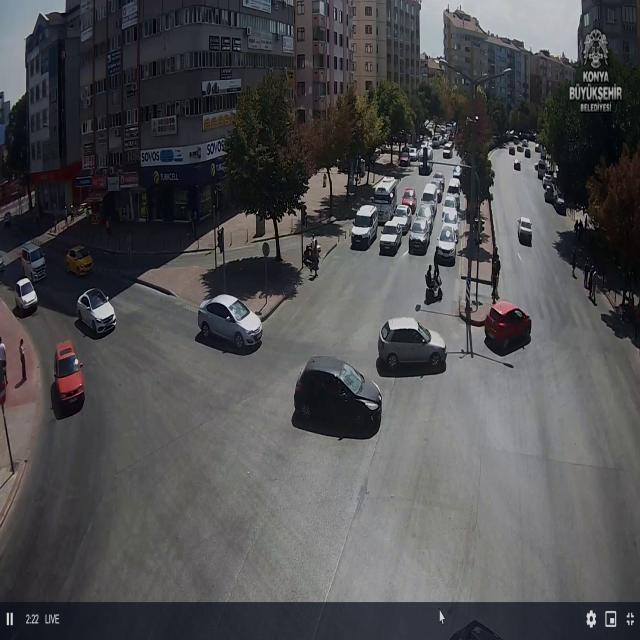Bus: (369, 176, 397, 225)
Car: (292, 356, 382, 430), (376, 317, 446, 370), (196, 294, 263, 348), (483, 301, 533, 350), (52, 339, 85, 410), (76, 287, 117, 336), (351, 205, 379, 248), (20, 242, 47, 281), (377, 221, 404, 256), (65, 244, 94, 276), (407, 216, 432, 253), (14, 277, 38, 315), (436, 225, 458, 264), (389, 205, 412, 234), (414, 204, 436, 232), (420, 183, 439, 214), (442, 208, 459, 241), (401, 187, 418, 212), (517, 216, 532, 244), (441, 196, 458, 220), (429, 179, 443, 201), (447, 178, 461, 200), (537, 158, 547, 180), (543, 186, 555, 203), (433, 170, 445, 187), (542, 173, 554, 189), (555, 197, 566, 214), (442, 143, 453, 159), (399, 152, 410, 166), (408, 148, 419, 161), (452, 165, 462, 179), (432, 139, 441, 148), (524, 148, 531, 158), (514, 160, 520, 170), (540, 150, 546, 160), (509, 146, 515, 155), (534, 144, 540, 152), (517, 145, 523, 152)
Van: (425, 276, 444, 305)
